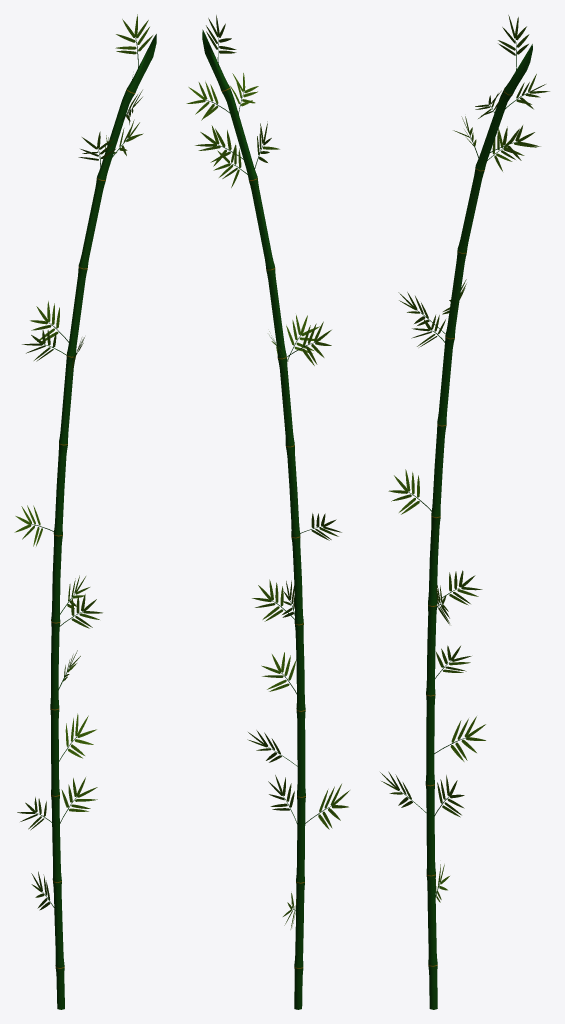
The model's file is BambooCurvedAv1.fbx.
3 views of the same model, side by side, from view 1: azimuth 30°, elevation 25°; view 2: azimuth 150°, elevation 25°; view 3: azimuth 330°, elevation 25° (orthographic). The views are drawn at different scales.
Parts seen in each view (by area): view 1: BambooA.001; view 2: BambooA.001; view 3: BambooA.001.
Part boxes in pixels (x1,y1,x2,y2): BambooA.001: [14, 14, 156, 1009]; BambooA.001: [186, 15, 349, 1009]; BambooA.001: [380, 15, 549, 1009].
Bounding box in the file's own units: 176 × 1126 × 93.69.
